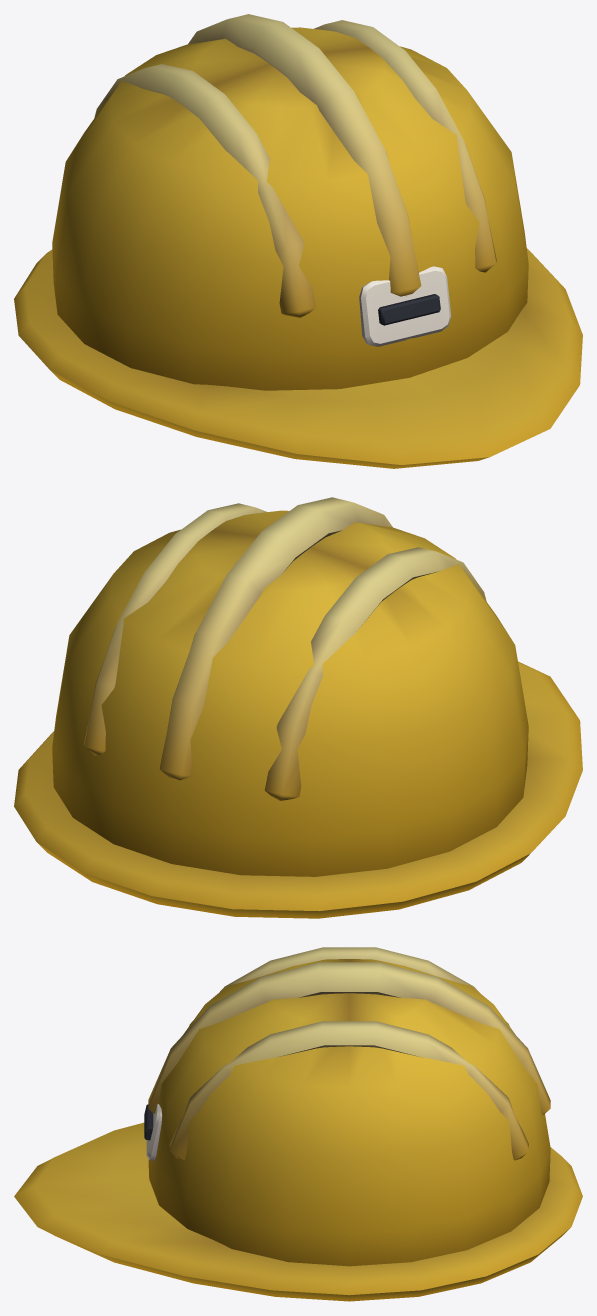
Rendered from hardhat.glb.
3 renders of one model, top to bottom at view 1: azimuth 30°, elevation 25°; view 2: azimuth 150°, elevation 25°; view 3: azimuth 270°, elevation 25°, orthographic. The views are drawn at different scales.
Visible parts, largest first — view 1: hardhat; view 2: hardhat; view 3: hardhat.
Part boxes in pixels (<box>): hardhat: <box>14,14,582,468</box>; hardhat: <box>14,497,582,918</box>; hardhat: <box>14,947,582,1301</box>.
Bounding box in the file's own units: 0.246 × 0.1395 × 0.2996.
